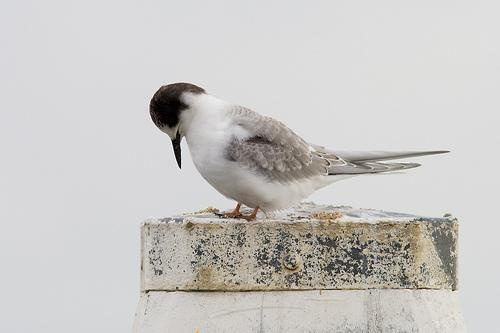bird: (147, 75, 453, 221)
